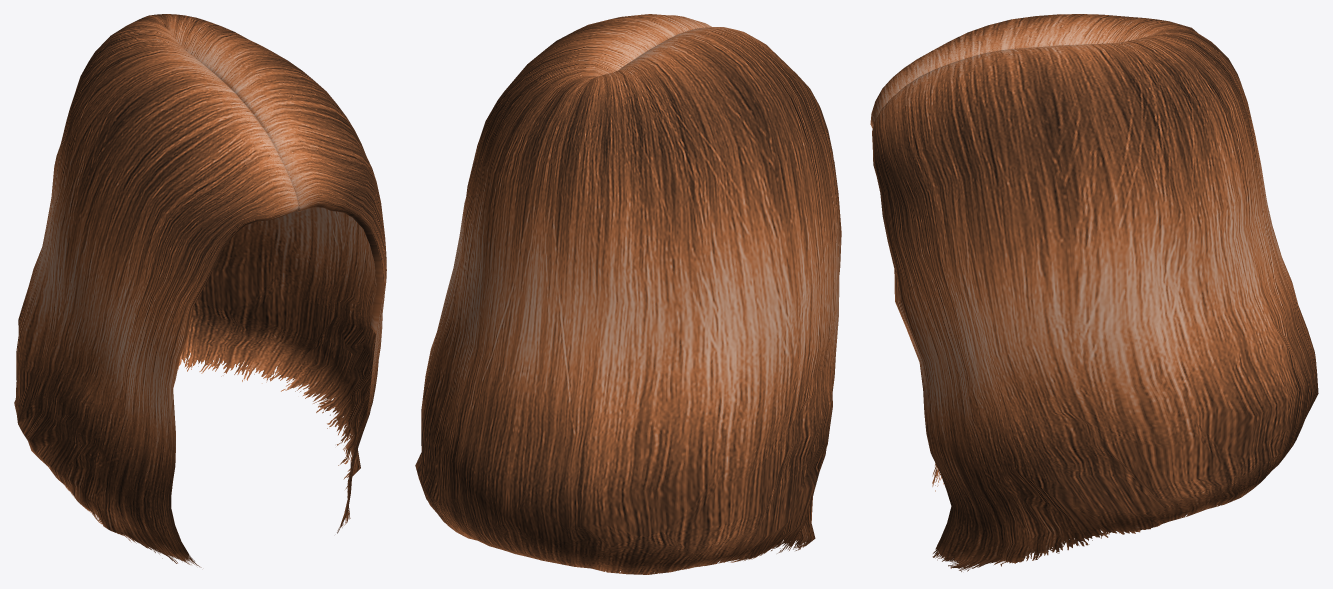
File: mh_toigo_curled_under_bob.glb
3 renders of one model, left to right at view 1: azimuth 30°, elevation 25°; view 2: azimuth 150°, elevation 25°; view 3: azimuth 270°, elevation 25°, orthographic. The views are drawn at different scales.
Parts seen in each view (by area): view 1: mh_toigo_curled_under_bob; view 2: mh_toigo_curled_under_bob; view 3: mh_toigo_curled_under_bob.
Part boxes in pixels (box(x1,y1,x2,y2)): mh_toigo_curled_under_bob: box(14, 14, 386, 567); mh_toigo_curled_under_bob: box(415, 14, 841, 574); mh_toigo_curled_under_bob: box(870, 14, 1318, 571).
Size of the model in its own units: 0.198 by 0.2861 by 0.2305.
1 material, 1 textured.
